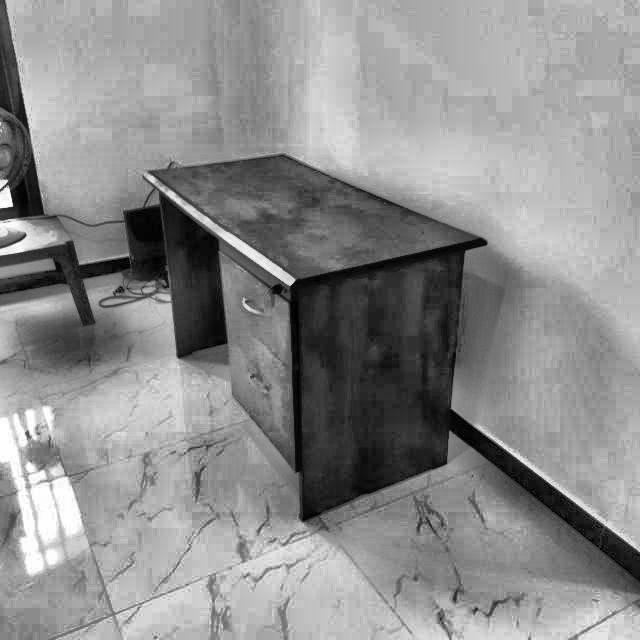mesa: (128, 145, 507, 546)
